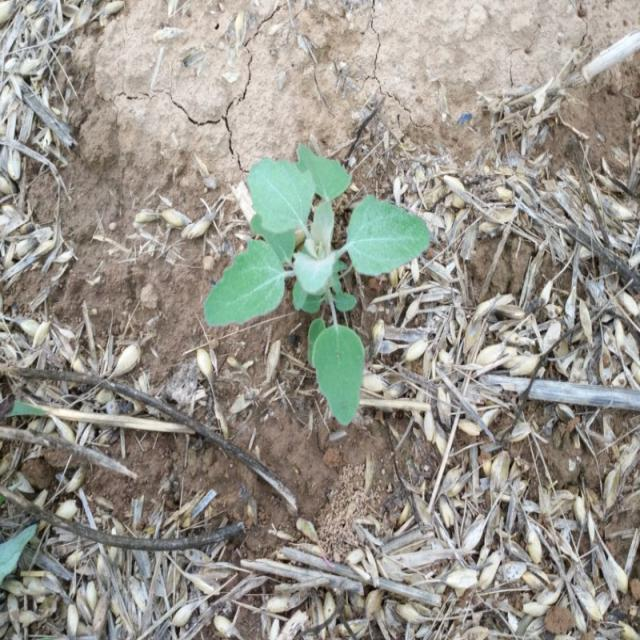goosefoots: (210, 132, 411, 406)
